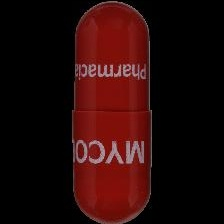0013-5301: (0, 0, 224, 224)
